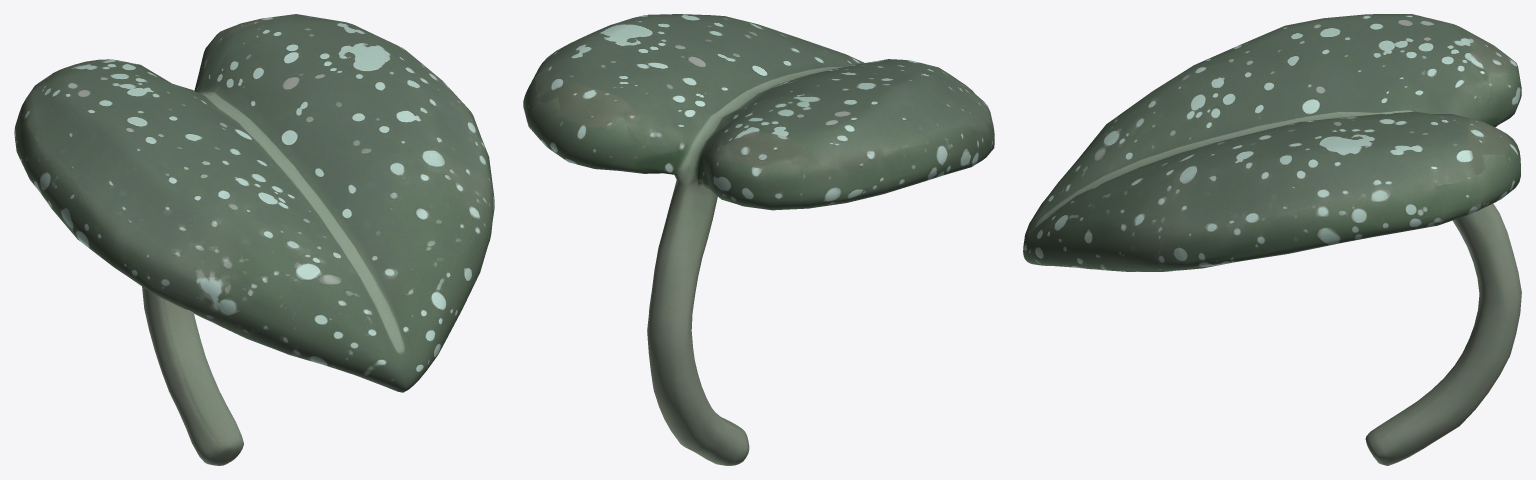
The model's file is heart_speckle_2657_v2.glb.
3 views of the same model, side by side, from view 1: azimuth 30°, elevation 25°; view 2: azimuth 150°, elevation 25°; view 3: azimuth 270°, elevation 25° (orthographic). The views are drawn at different scales.
Visible parts, largest first — view 1: world; view 2: world; view 3: world.
Part boxes in pixels (x1=…): world: x1=14, y1=14, x2=494, y2=465; world: x1=523, y1=14, x2=994, y2=465; world: x1=1023, y1=14, x2=1521, y2=465.
Bounding box in the file's own units: 1.79 × 1.69 × 2.
Materials: 1 (1 with a texture image).
